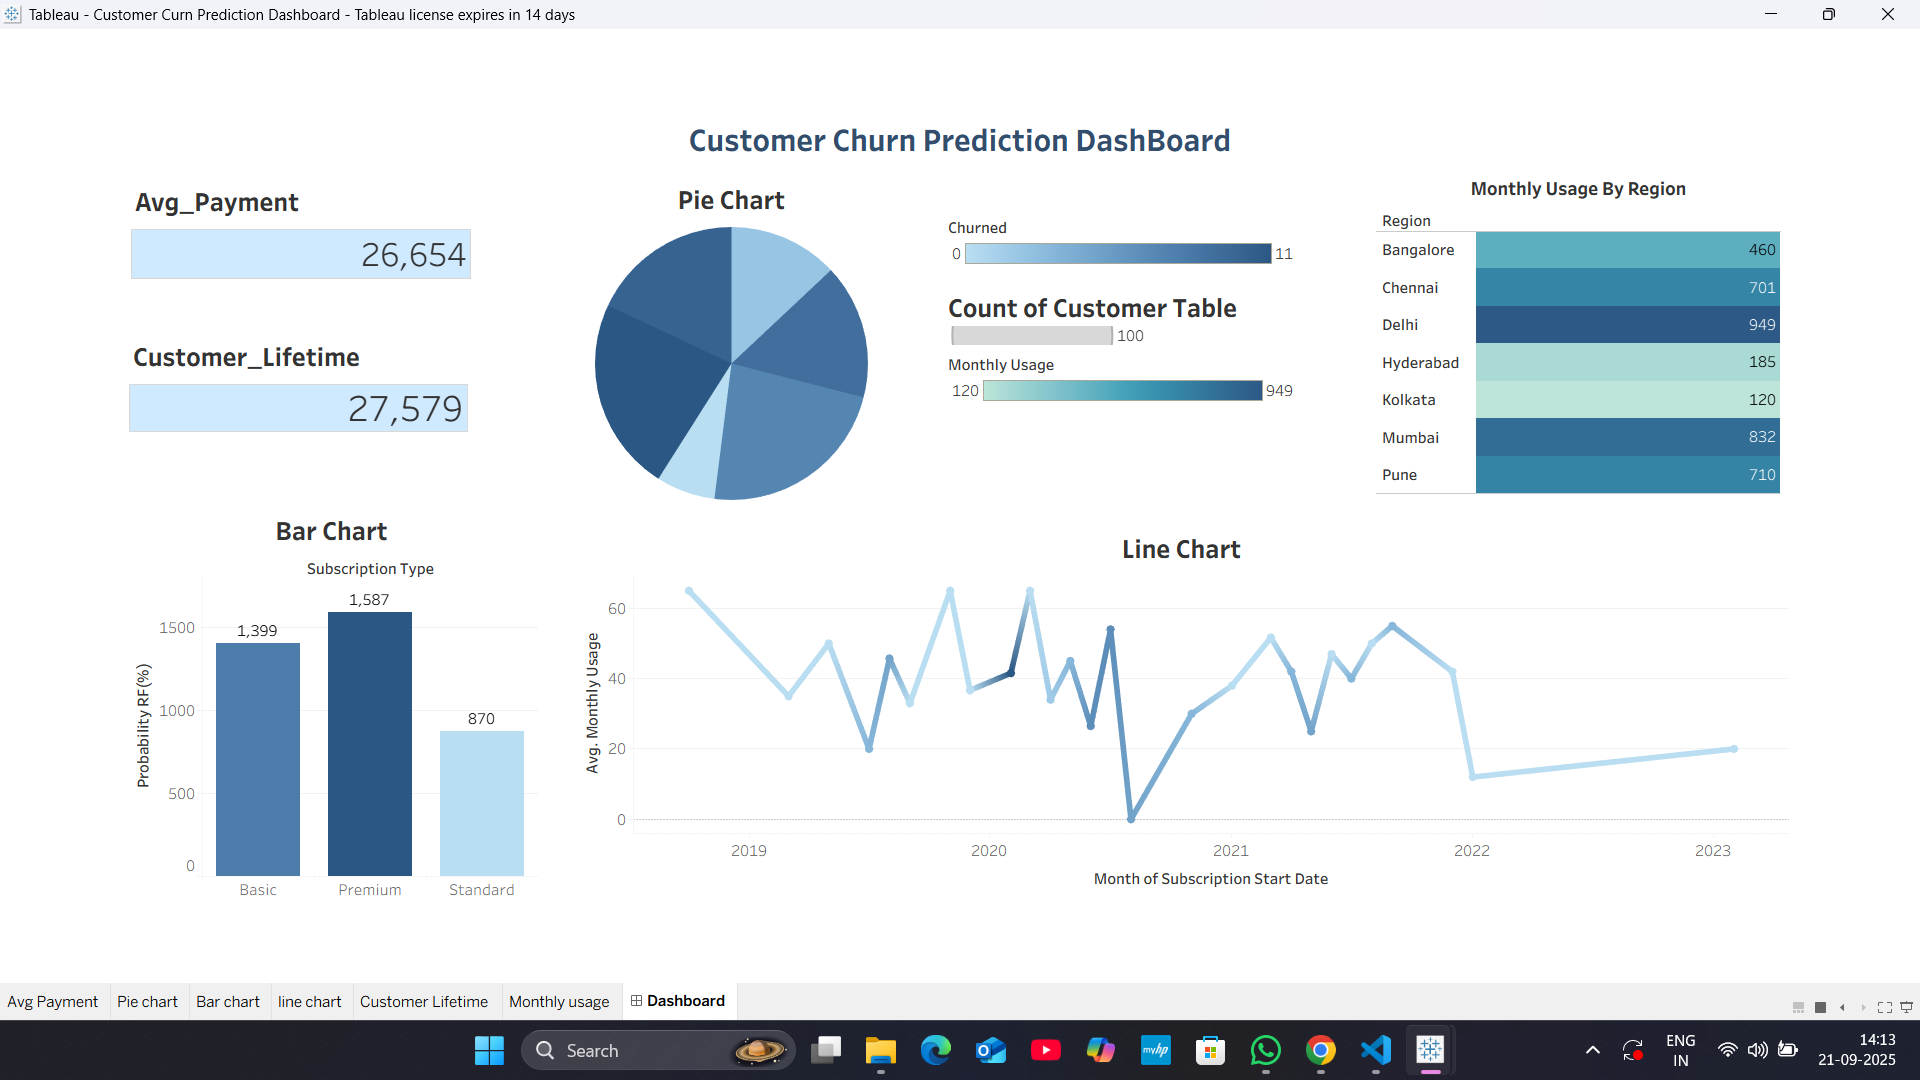

What the dashboard file says about the page in this screenshot:
{"tool":"tableau","page":{"name":"Dashboard ","canvas":[1700,800],"ordinal":0},"visuals":[{"type":"title","box":[8,8,1684,49]},{"type":"worksheet","title":"Monthly usage","mark":"Square","rows":["Region"],"box":[1266,65,405,323]},{"type":"worksheet","title":"Pie chart","mark":"Pie","box":[411,72,421,322]},{"type":"worksheet","title":"Avg Payment","mark":"Automatic","box":[21,74,340,148]},{"type":"legend","title":"Pie chart","param":"[federated.08drt6d1des6hs1dpfs641vrcebl].[sum:Churned:qk]","box":[834,107,358,73]},{"type":"legend","title":"Pie chart","param":"[federated.08drt6d1des6hs1dpfs641vrcebl].[__tableau_internal_object_id__].[cnt:S","box":[834,180,358,64]},{"type":"worksheet","title":"Customer Lifetime","mark":"Automatic","box":[19,229,339,163]},{"type":"legend","title":"Monthly usage","param":"[federated.08drt6d1des6hs1dpfs641vrcebl].[sum:Monthly_Usage:qk]","box":[834,244,358,73]},{"type":"worksheet","title":"Bar chart","mark":"Automatic","rows":["Probability_RF(%)"],"cols":["Subscription_Type"],"box":[15,403,413,392]},{"type":"worksheet","title":"line chart","mark":"Automatic","rows":["Monthly_Usage"],"cols":["Subscription_Start_Date"],"box":[464,421,1215,369]}]}

Visuals, with their boxes on the page's 1700x800 design canvas (x1, y1, x2, y2). These are canvas units, not pixel positions in the 1920x1080 screenshot, which may show the page scaled, cropped or inside an application window:
title: <bbox>8, 8, 1692, 57</bbox>
"Monthly usage" worksheet (Square marks): <bbox>1266, 65, 1671, 388</bbox>
"Pie chart" worksheet (Pie marks): <bbox>411, 72, 832, 394</bbox>
"Avg Payment" worksheet: <bbox>21, 74, 361, 222</bbox>
"Pie chart" legend: <bbox>834, 107, 1192, 180</bbox>
"Pie chart" legend: <bbox>834, 180, 1192, 244</bbox>
"Customer Lifetime" worksheet: <bbox>19, 229, 358, 392</bbox>
"Monthly usage" legend: <bbox>834, 244, 1192, 317</bbox>
"Bar chart" worksheet: <bbox>15, 403, 428, 795</bbox>
"line chart" worksheet: <bbox>464, 421, 1679, 790</bbox>
